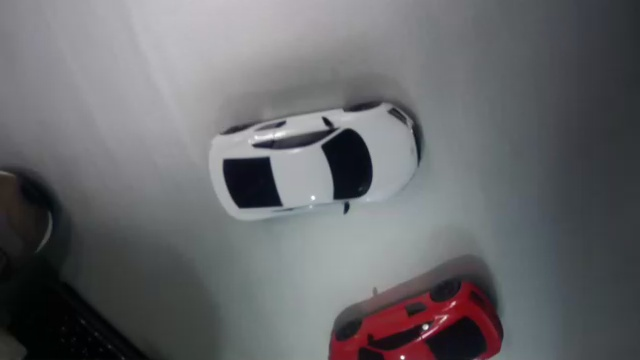car: (209, 102, 420, 224), (327, 282, 502, 360)
